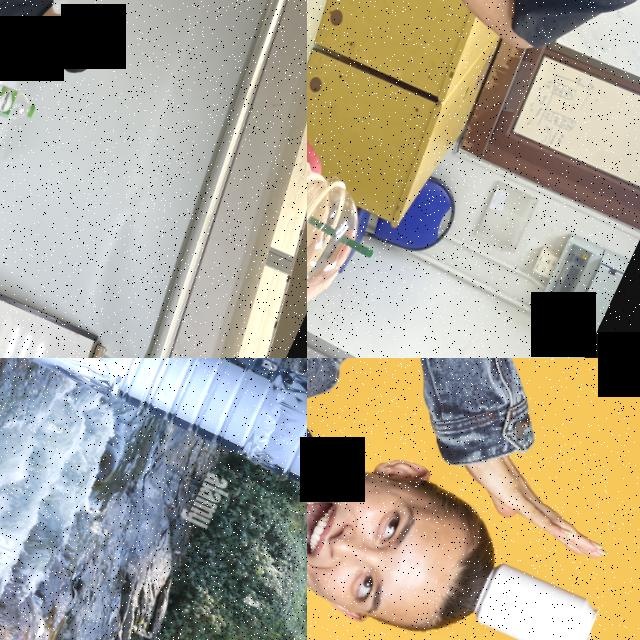bottle: (0, 358, 307, 541), (0, 68, 39, 132)
can: (468, 557, 602, 640)
cup: (307, 123, 376, 308)
